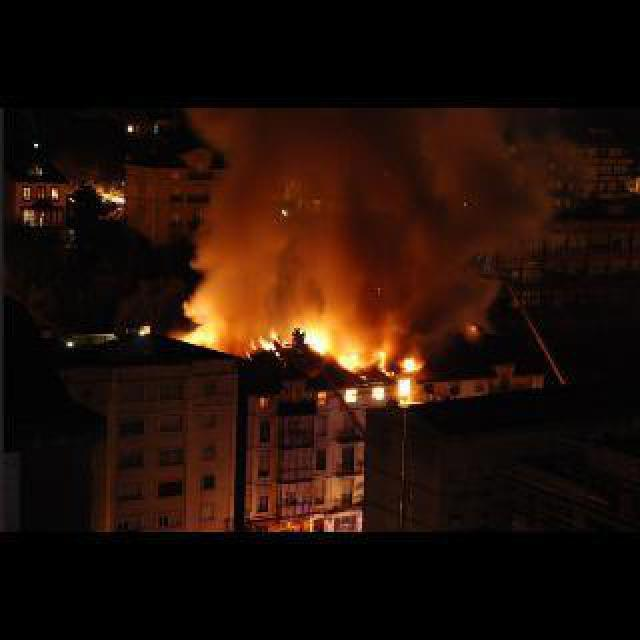smoke: (199, 110, 541, 342)
zfire: (248, 320, 390, 370), (402, 352, 424, 370)
